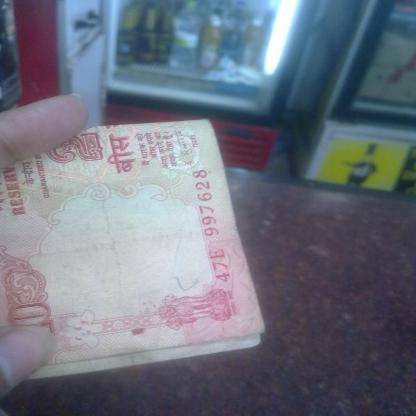Old20Front: (0, 118, 247, 366)
